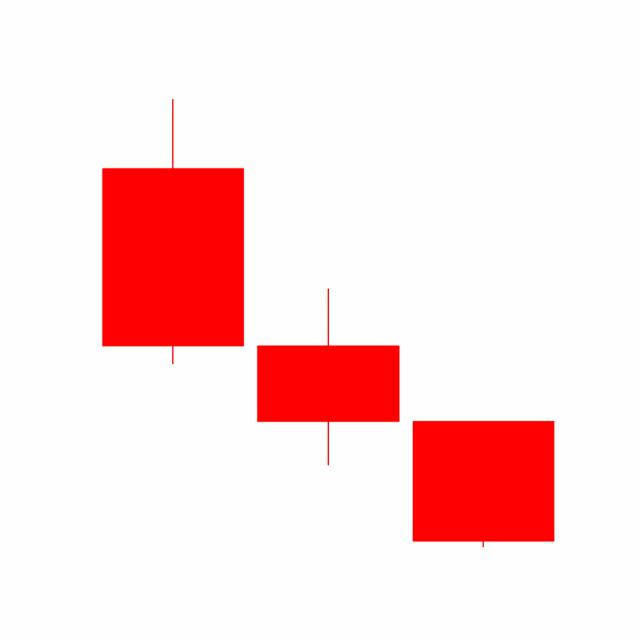Marubozu: (405, 418, 561, 548)
